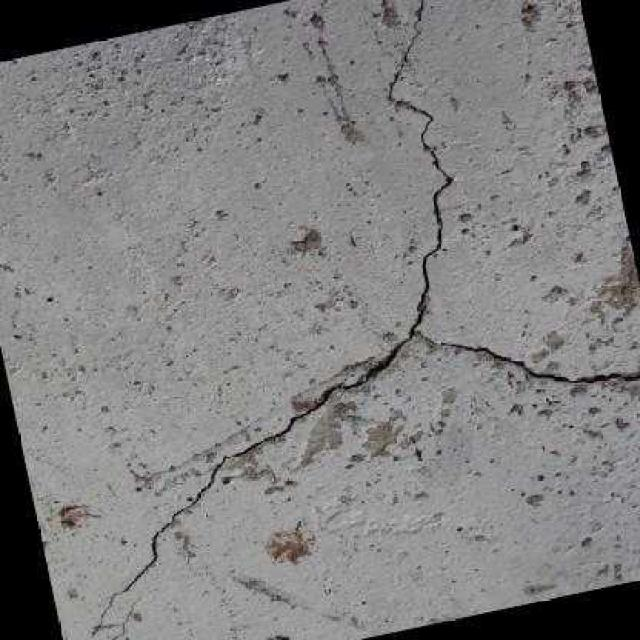D00: (91, 0, 640, 635), (107, 600, 135, 640)
